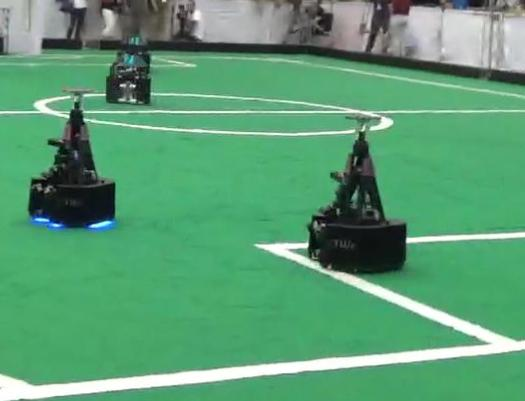robot: (305, 111, 411, 272), (26, 82, 119, 228)
